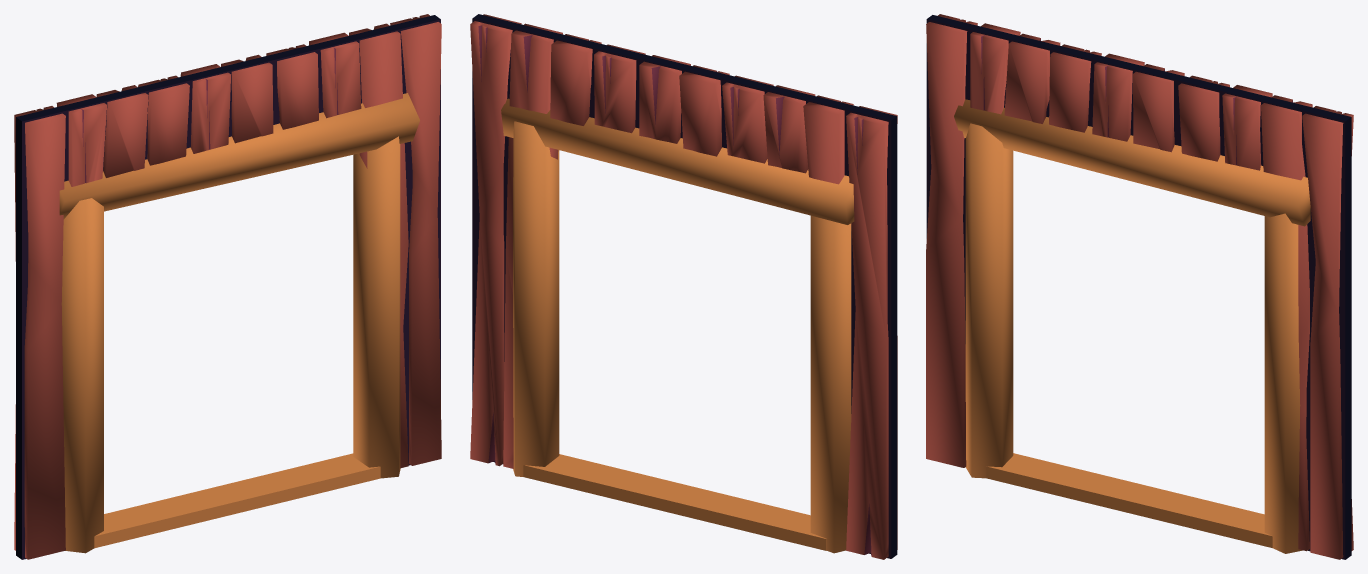
The model's file is door_p_1.glb.
3 renders of one model, left to right at view 1: azimuth 30°, elevation 25°; view 2: azimuth 150°, elevation 25°; view 3: azimuth 330°, elevation 25°, orthographic.
Parts seen in each view (by area): view 1: Cube.039; view 2: Cube.039; view 3: Cube.039.
Part boxes in pixels (<box>): Cube.039: <box>14,14,441,559</box>; Cube.039: <box>470,14,897,559</box>; Cube.039: <box>926,14,1353,559</box>.
Size of the model in its own units: 4 by 4 by 0.5289.
Materials: 1 (1 with a texture image).
